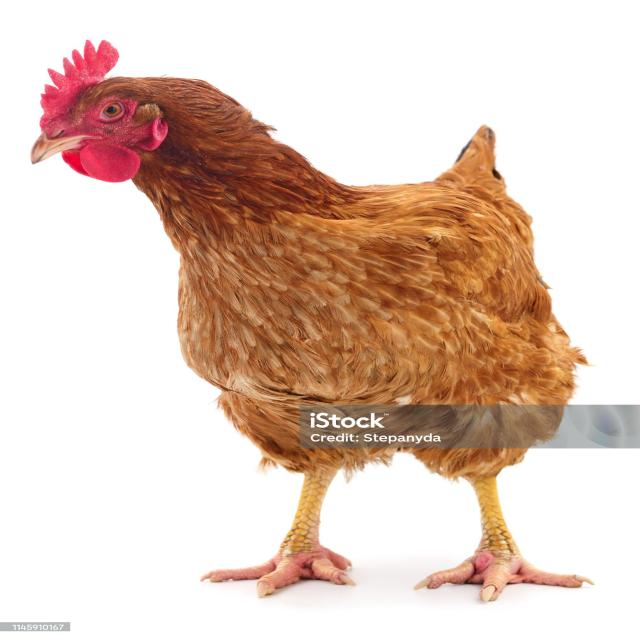Chicken: (32, 39, 615, 596)
